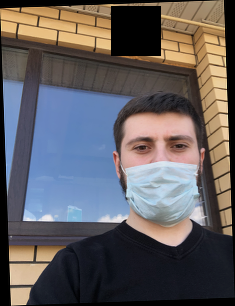with_mask: (122, 126, 199, 229)
